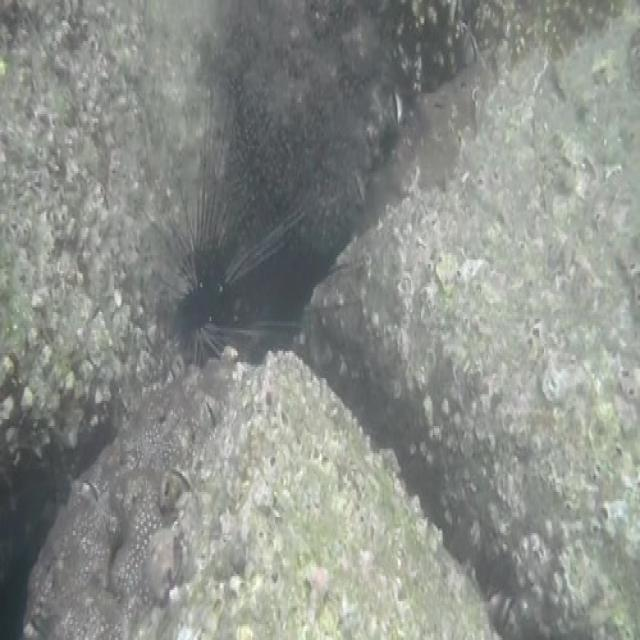Urchin: (155, 91, 358, 362)
